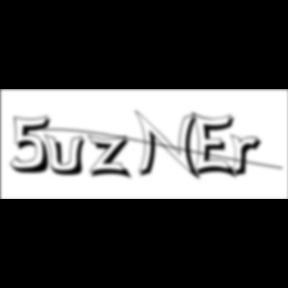5: (9, 114, 56, 176)
E: (192, 110, 242, 182)
N: (134, 109, 204, 183)
r: (230, 134, 268, 180)
u: (44, 132, 92, 178)
z: (88, 134, 136, 182)
